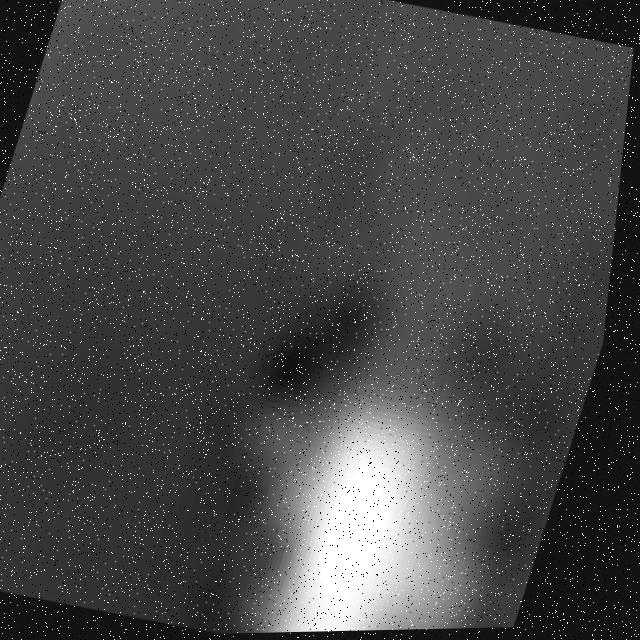person: (232, 295, 549, 636)
